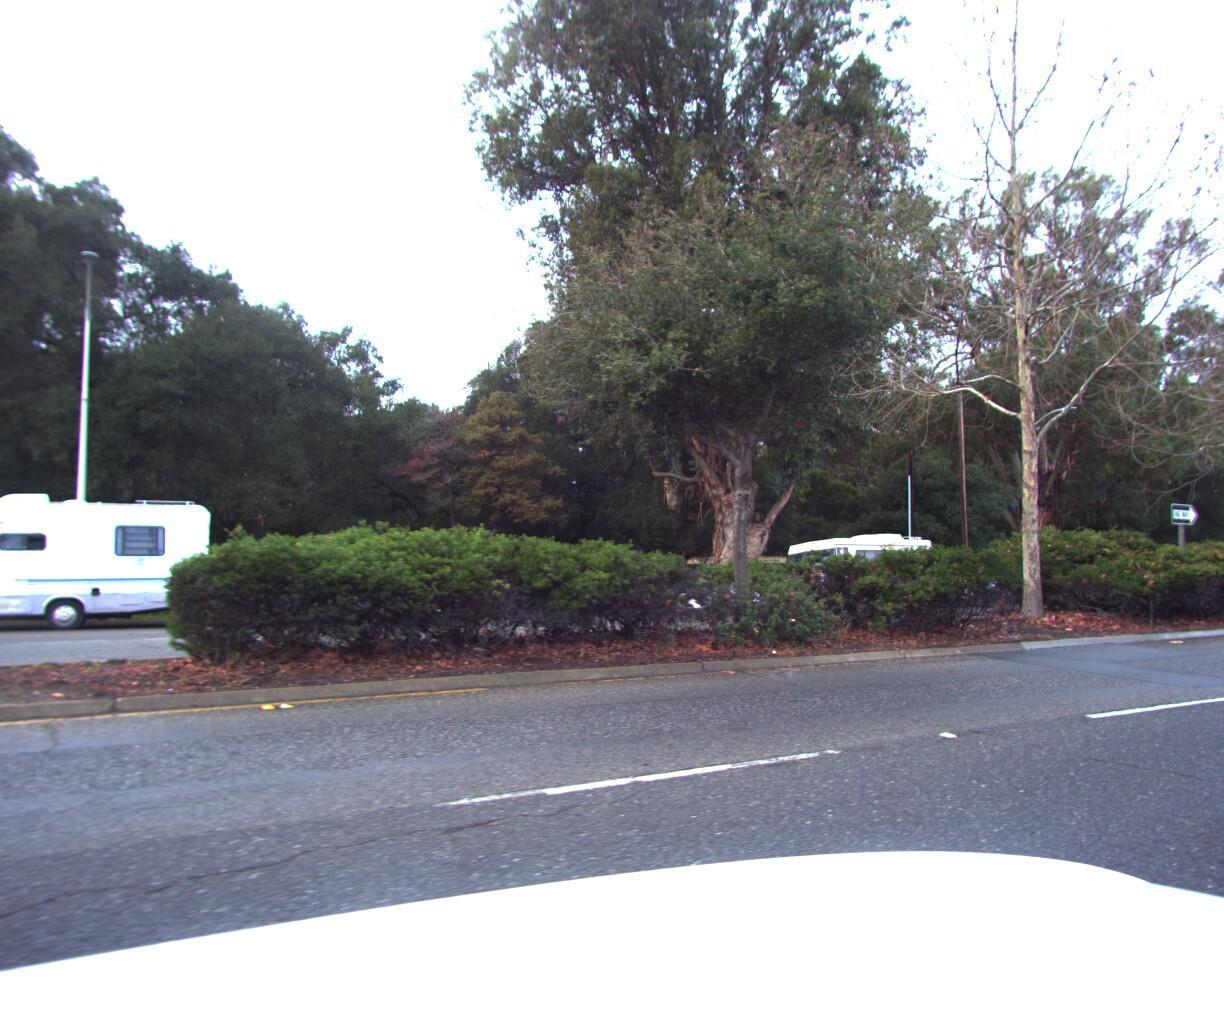other_vehicle: (0, 475, 227, 651), (762, 525, 945, 613)
